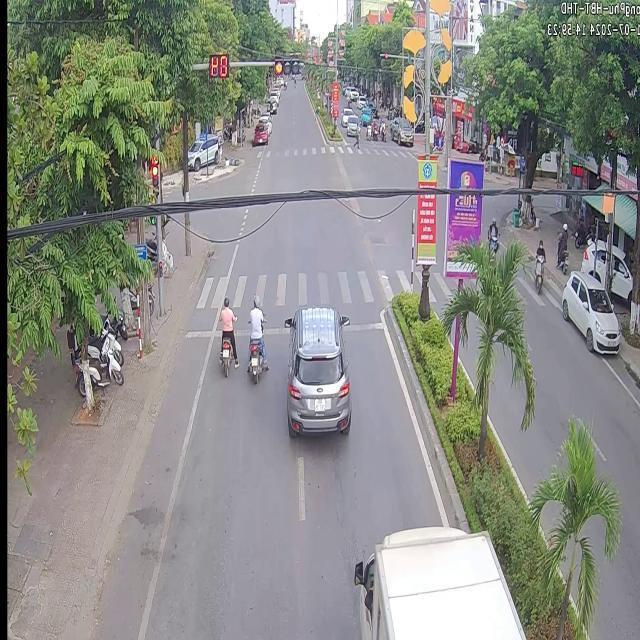car: (353, 525, 522, 638), (283, 305, 349, 440)
motobike: (243, 294, 266, 391), (218, 296, 238, 375)
red_light: (272, 54, 299, 74), (147, 154, 159, 186)
stop_line: (233, 322, 285, 335), (340, 320, 382, 330), (181, 328, 222, 336)
